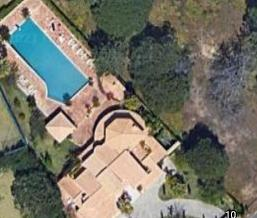pool: (7, 13, 90, 104)
